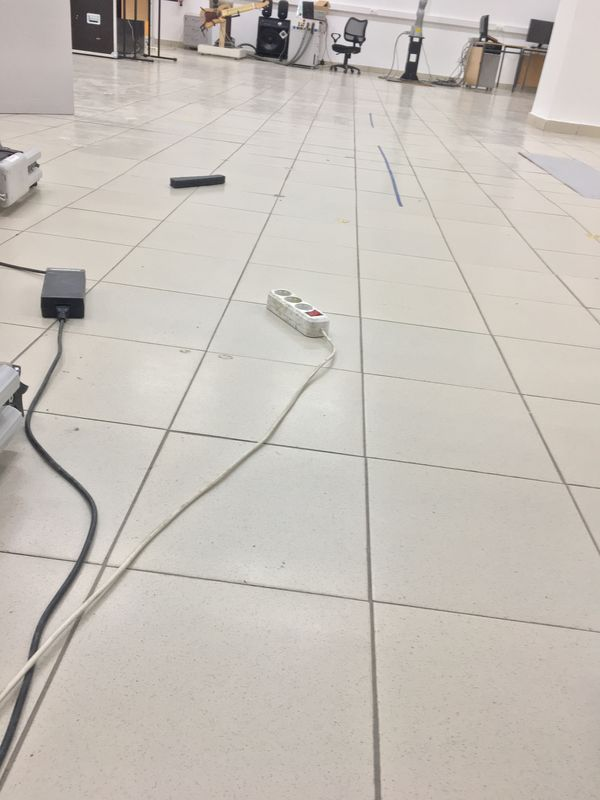socket: (262, 280, 334, 350)
